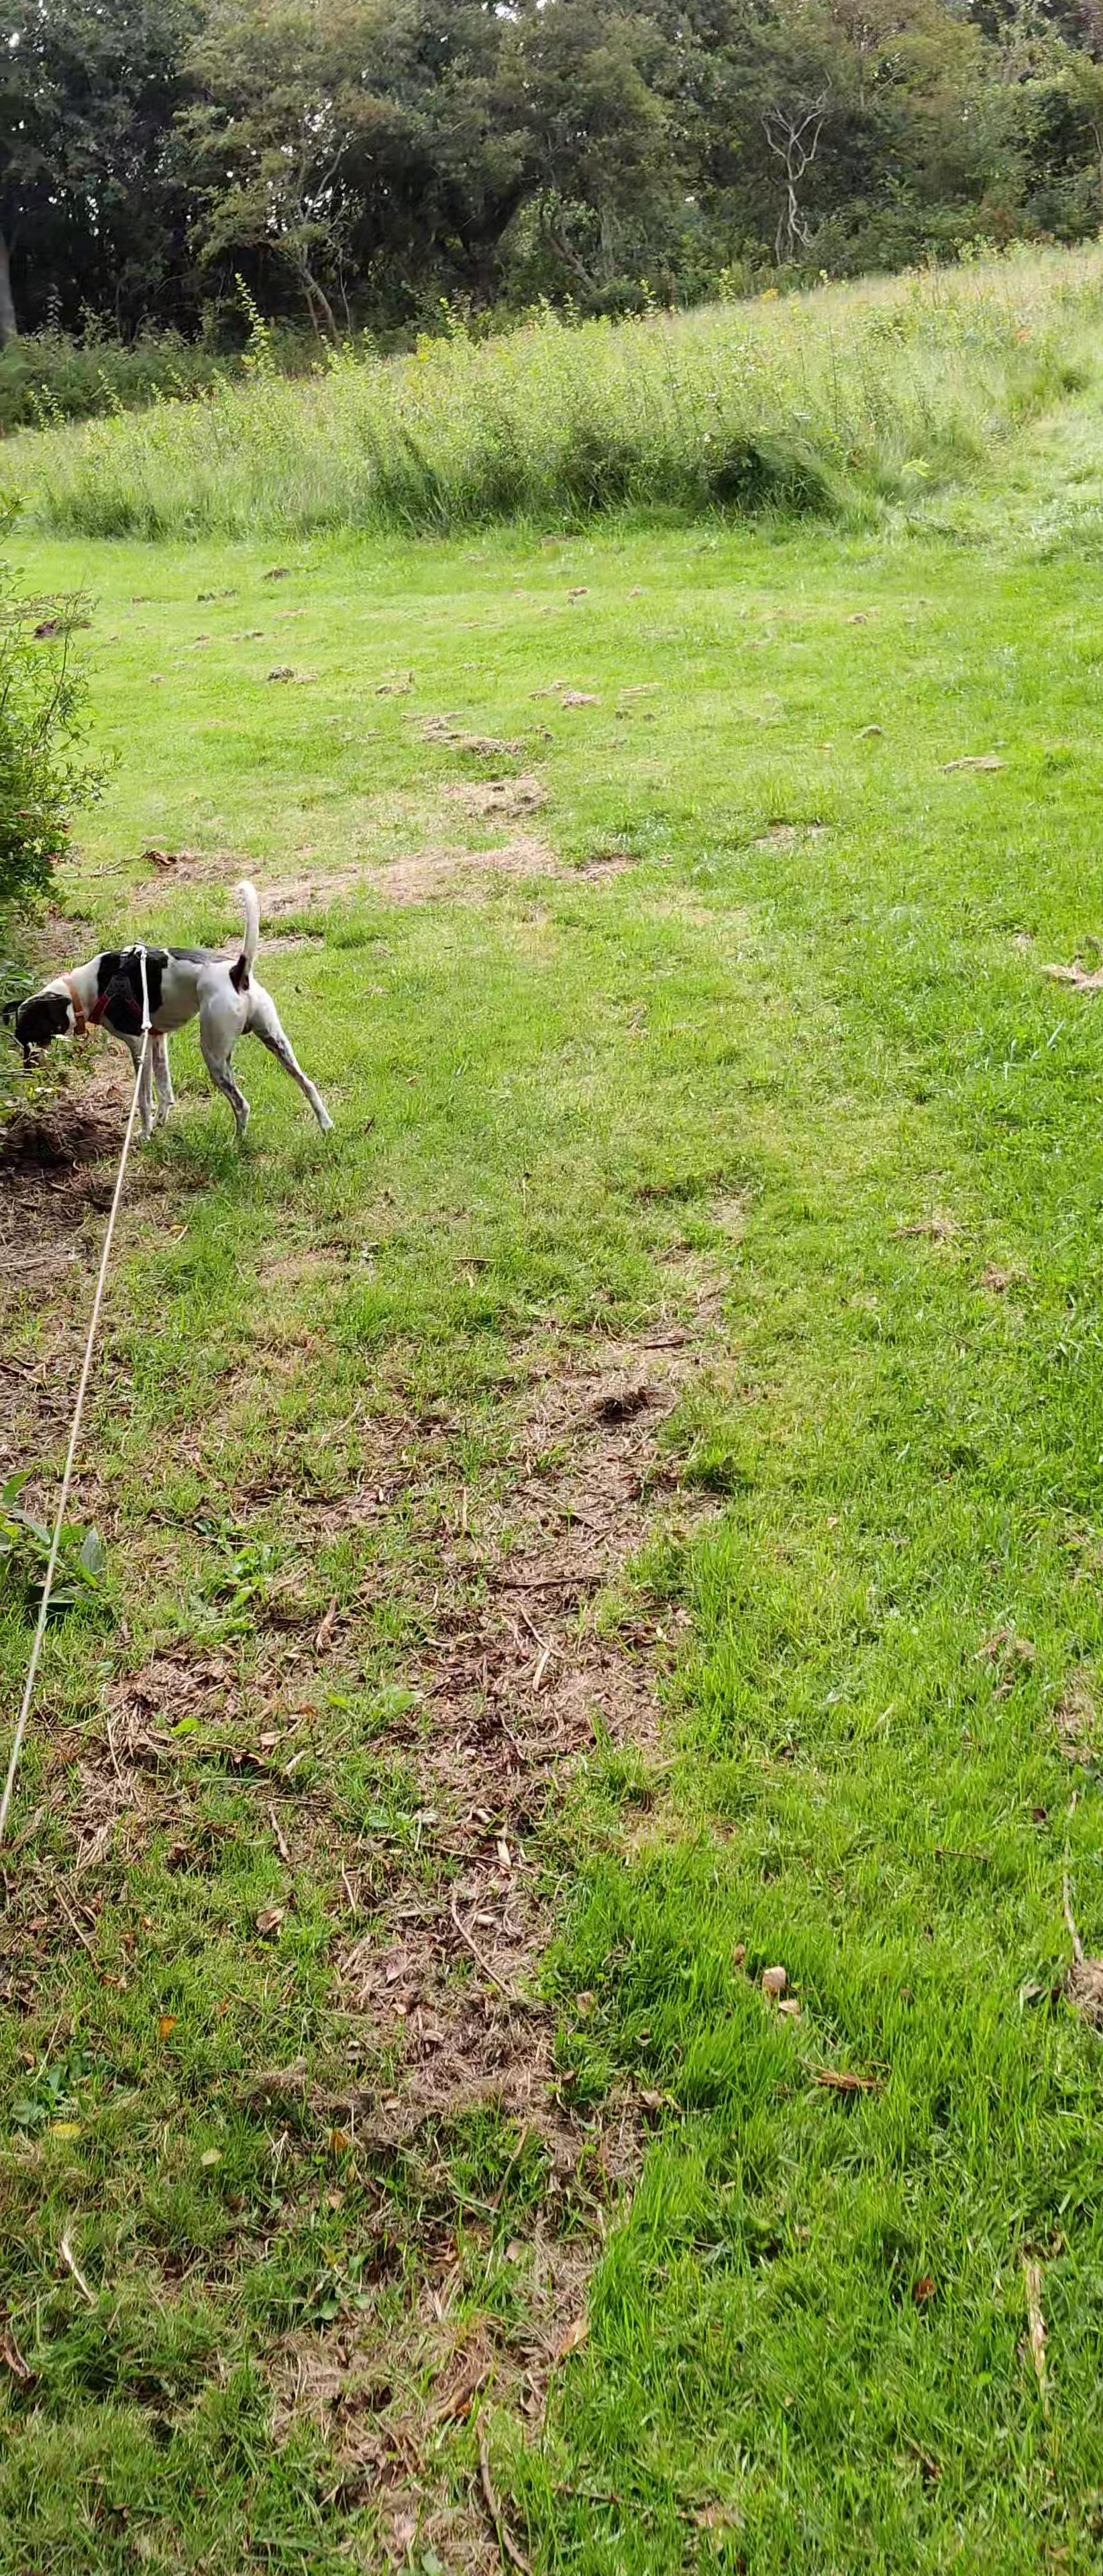Dog: (0, 861, 360, 1161)
